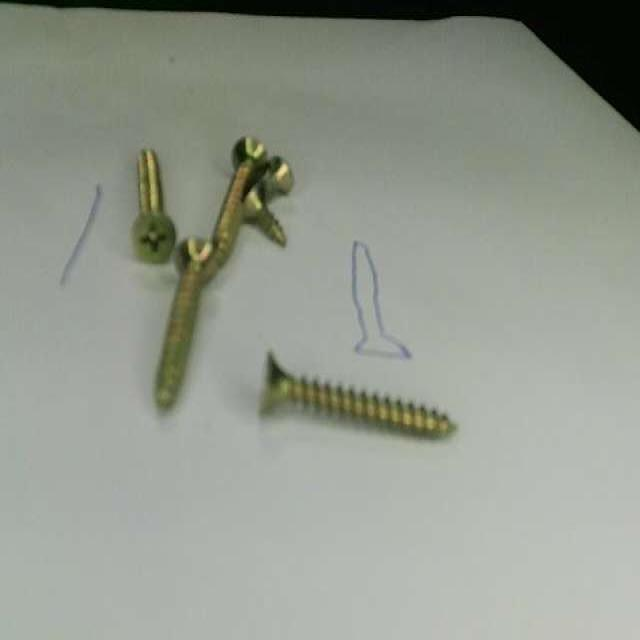Parafuso: (261, 355, 456, 439), (155, 237, 216, 408), (217, 133, 269, 261), (135, 150, 178, 263), (245, 180, 287, 241), (263, 152, 295, 196)
